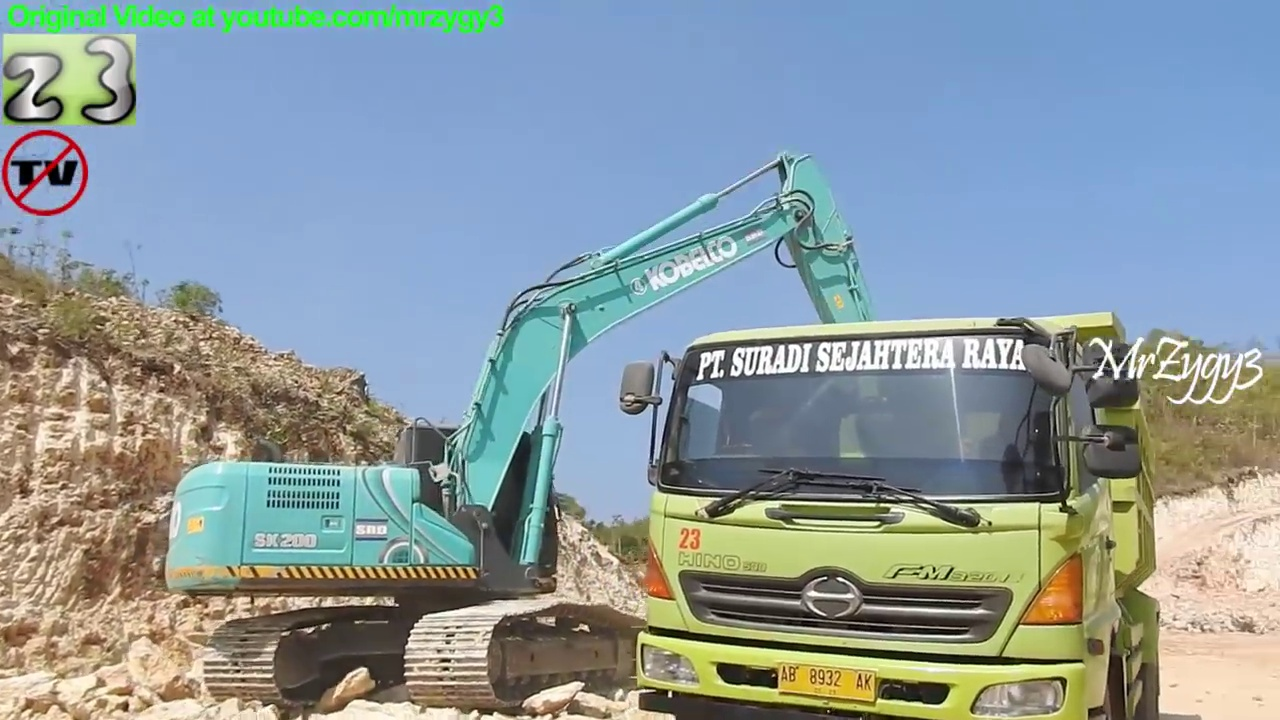excavator: (153, 144, 978, 717)
truck: (612, 303, 1168, 720)
